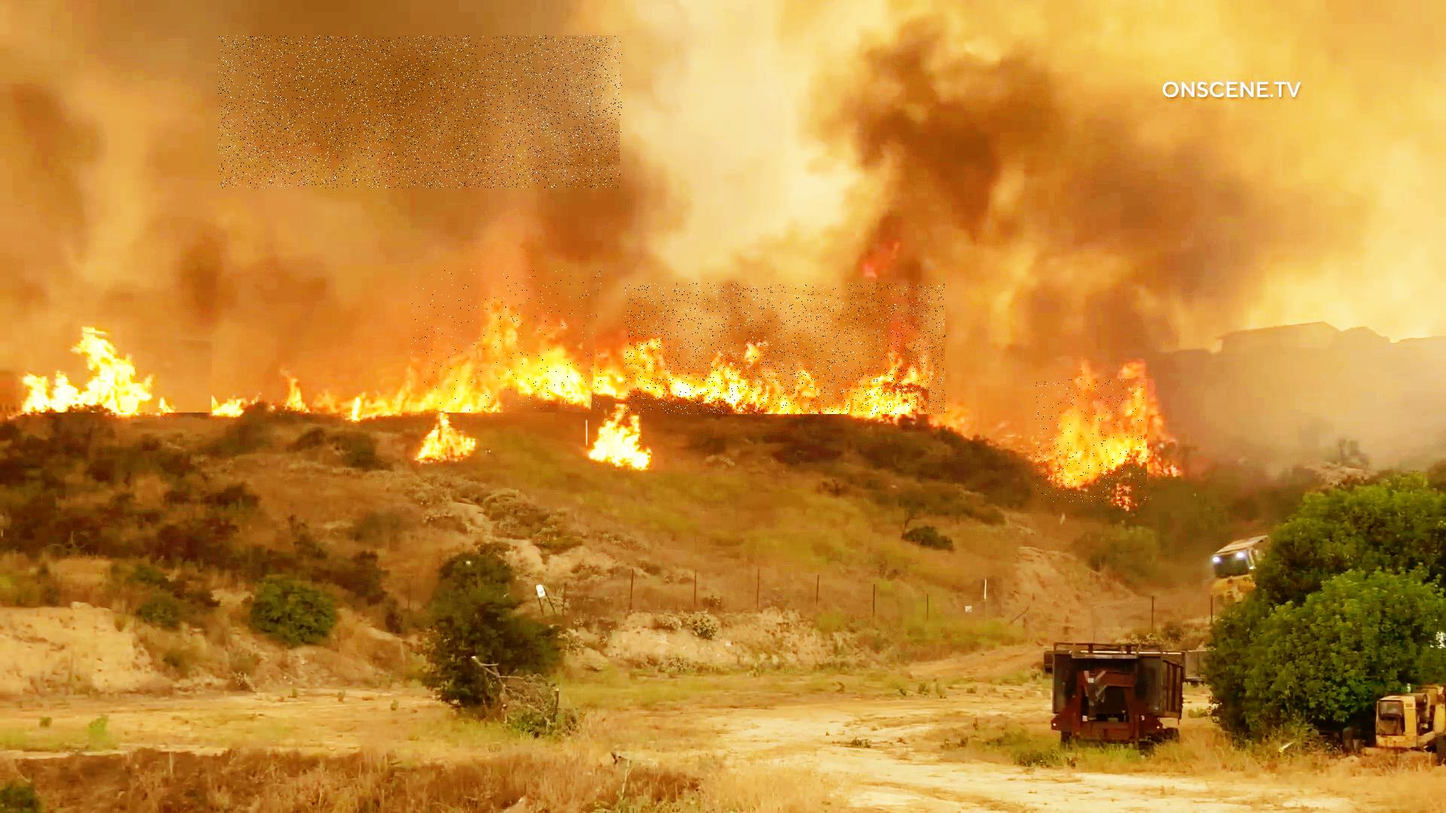fire: (625, 283, 945, 414), (411, 270, 602, 413), (0, 326, 212, 413), (1036, 379, 1147, 503)
smoke: (219, 36, 623, 189)
